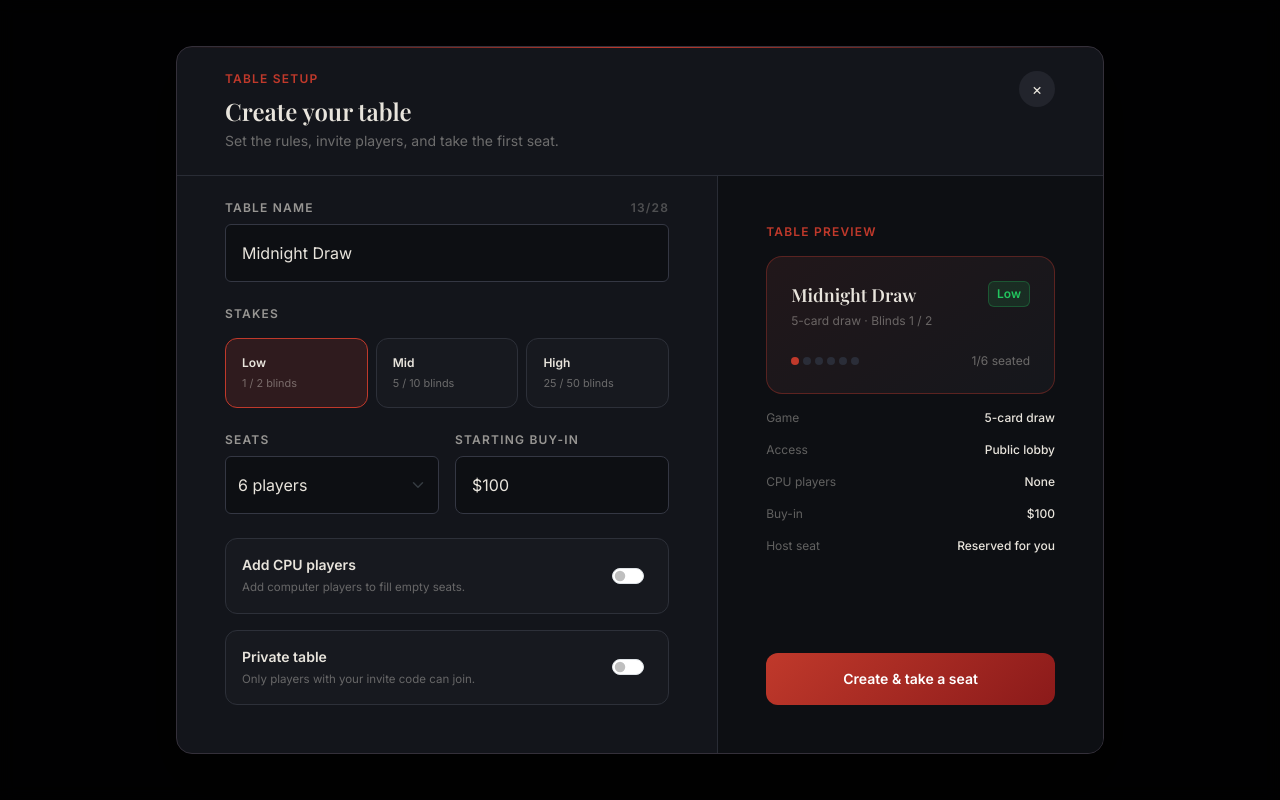
Scenario: TableCreation (create mode) › choosing Mid stakes updates the pressed state and the preview
Click the button "Mid 5 / 10 blinds".
click(447, 373)  # box [376,338,518,408]
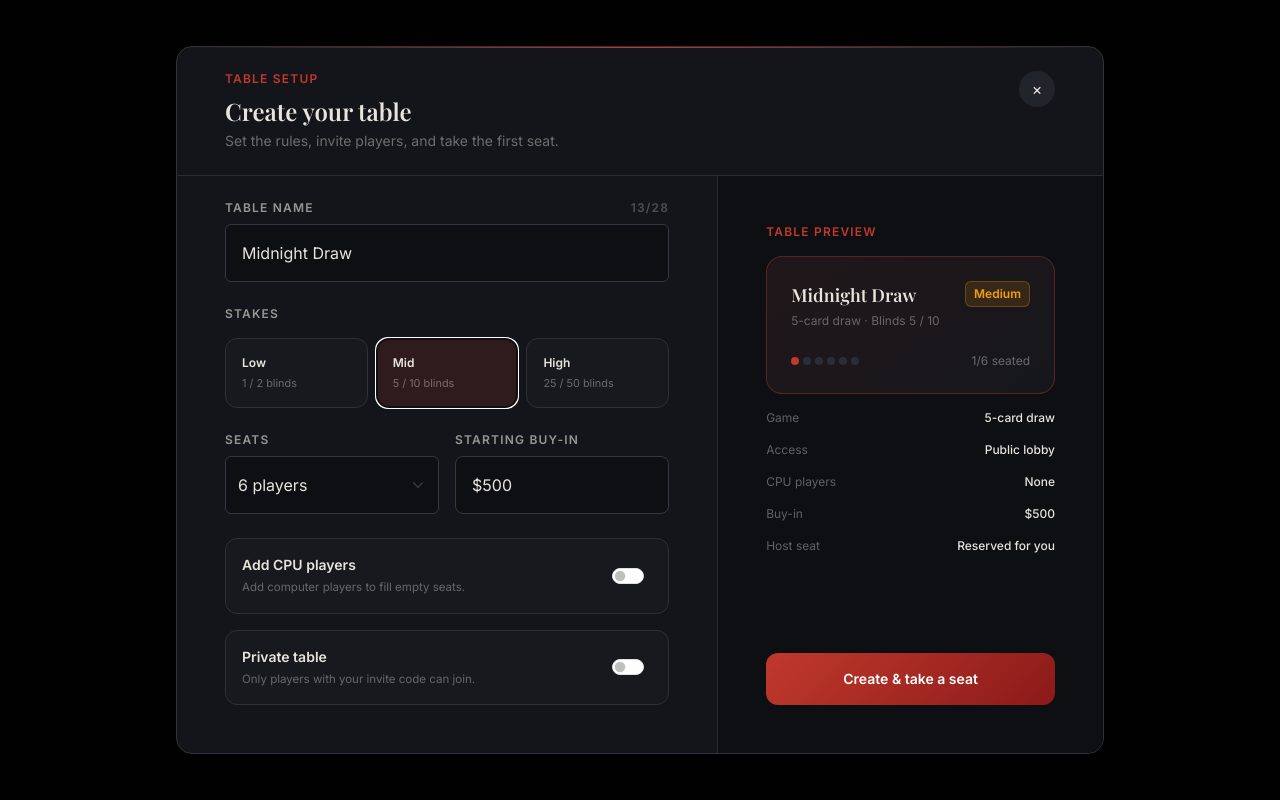
expect the text "Medium" is shown: met, box [965,281,1030,307]
expect the text "5-card draw · Blinds 5 / 10" is shown: met, box [791,313,940,329]
expect the text "$500" below "Starting buy-in" is shown: met, box [472,475,512,495]
